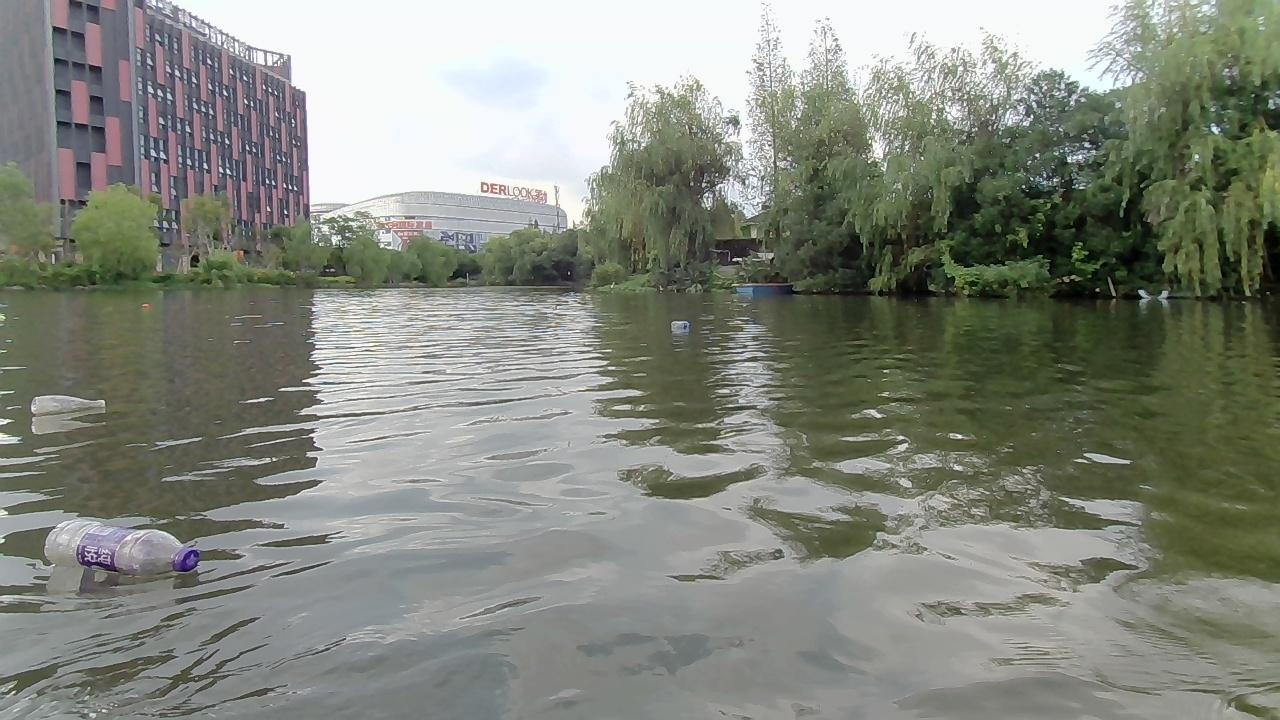bottle: (46, 517, 200, 581), (29, 392, 106, 415), (669, 319, 687, 337)
